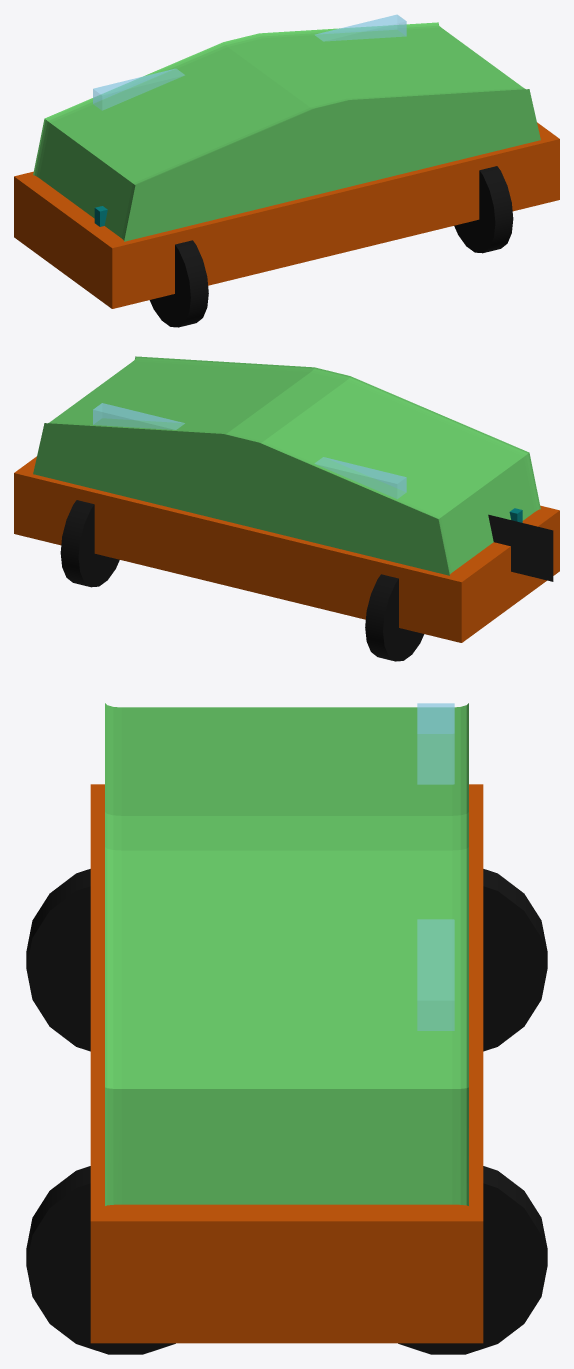
File: hybrid_crossover_2005.glb
The picture shows the model from 3 angles, top to bottom: view 1: azimuth 30°, elevation 25°; view 2: azimuth 150°, elevation 25°; view 3: azimuth 270°, elevation 25°; orthographic projection. The views are drawn at different scales.
Visible parts, largest first — view 1: hybrid_crossover_2005; view 2: hybrid_crossover_2005; view 3: hybrid_crossover_2005.
Part boxes in pixels (<box>): hybrid_crossover_2005: <box>14,14,559,327</box>; hybrid_crossover_2005: <box>14,356,559,661</box>; hybrid_crossover_2005: <box>26,703,547,1354</box>.
Size of the model in its own units: 5.47 by 1.96 by 2.52.
